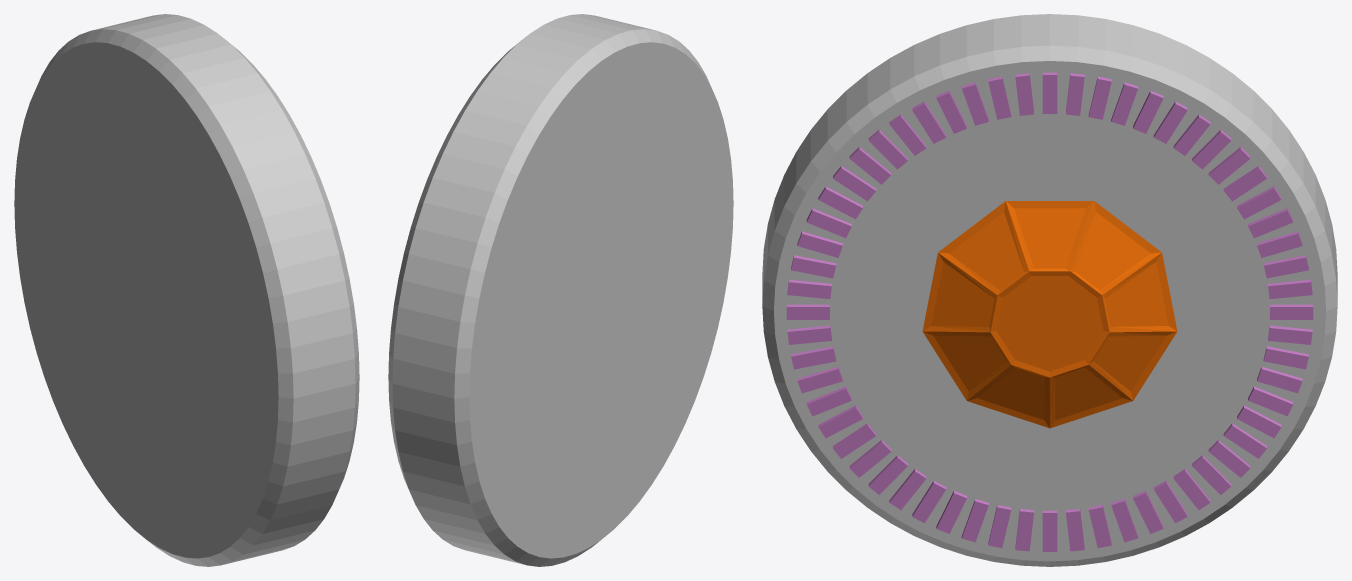
The model's file is ship2.fbx.
3 renders of one model, left to right at view 1: azimuth 30°, elevation 25°; view 2: azimuth 150°, elevation 25°; view 3: azimuth 270°, elevation 25°, orthographic. The views are drawn at different scales.
Parts seen in each view (by area): view 1: Cylinder.1; view 2: Cylinder.1; view 3: Cylinder.1, Cylinder.2, Cube 0.1.
Part boxes in pixels (bbox=[...]): Cylinder.1: bbox=[14, 14, 359, 566]; Cylinder.1: bbox=[388, 14, 733, 566]; Cylinder.1: bbox=[762, 14, 1337, 566]; Cylinder.2: bbox=[922, 201, 1177, 428]; Cube 0.1: bbox=[786, 72, 1313, 551].
Size of the model in its own units: 43.6 by 200 by 200.
